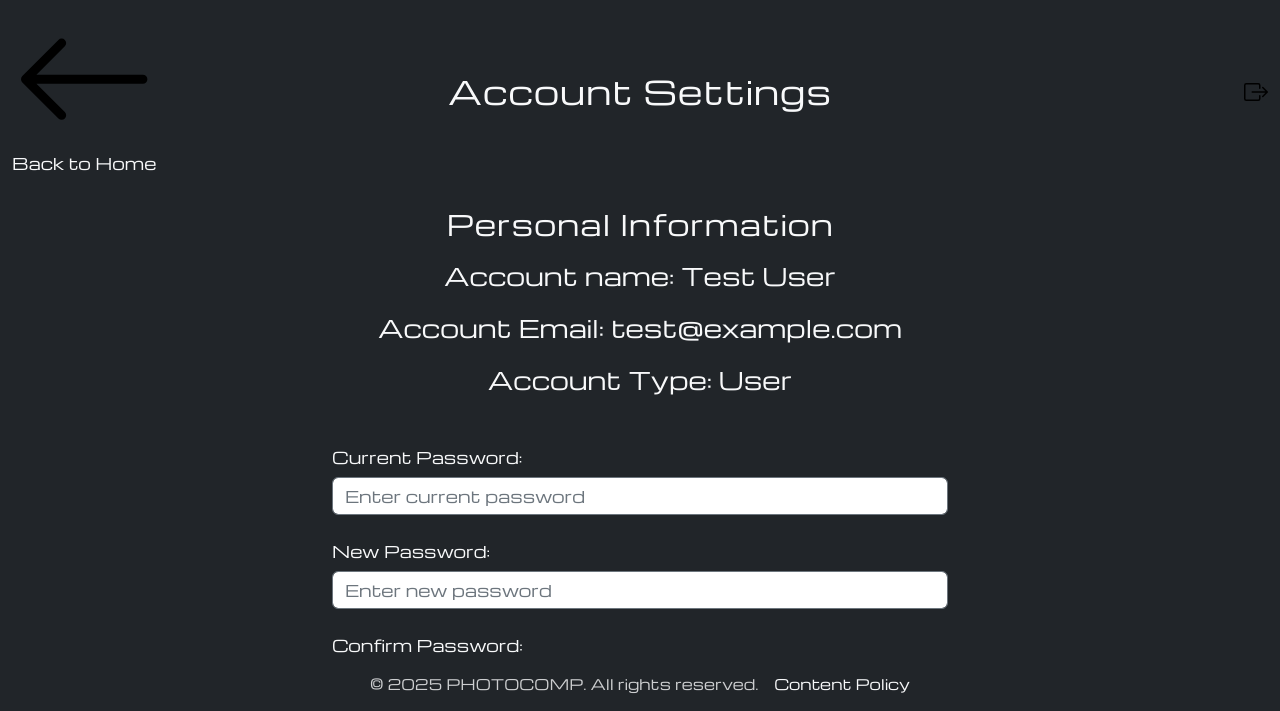
it: Account Settings Page › Password Change › handles incorrect current password
Type "wrongpassword" into the password field with id "currentPassword" at (640, 496), box [332,477,948,515]
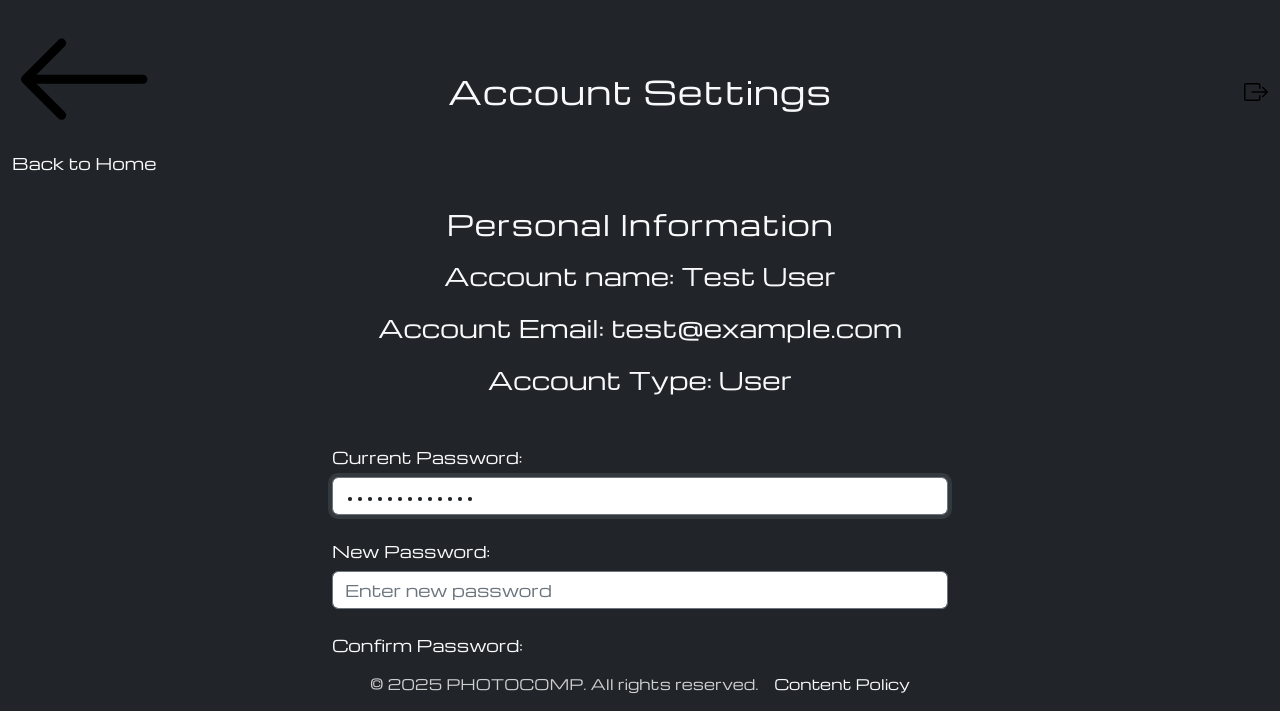
Type "newpassword123" into the password field with id "newPassword" at (640, 590), box [332,571,948,609]
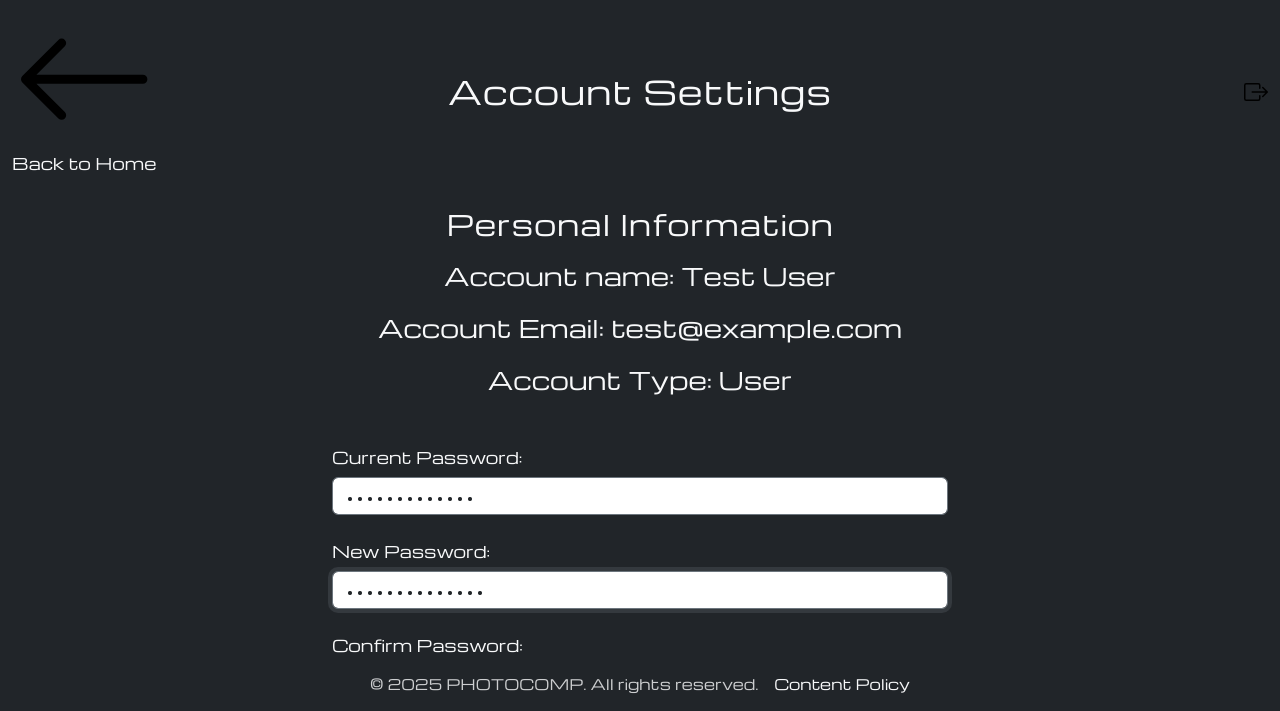
Scroll
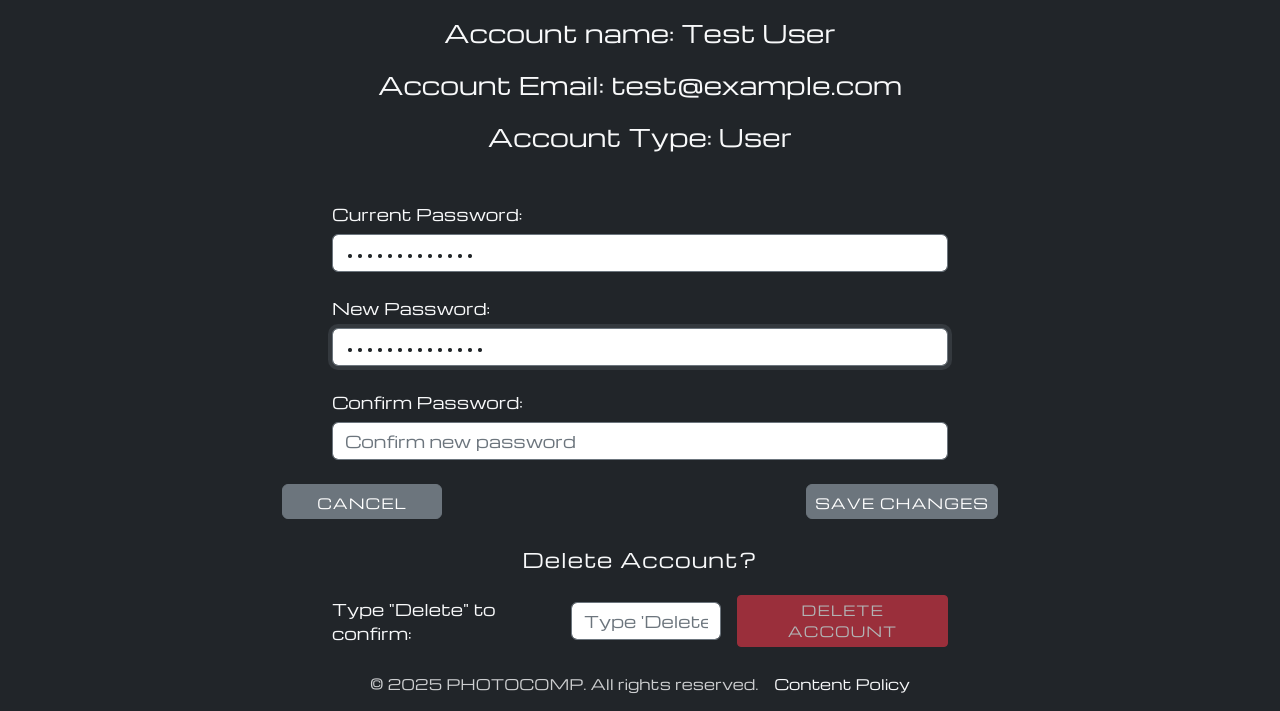
Type "newpassword123" into the password field with id "confirmPassword" at (640, 441), box [332,422,948,460]
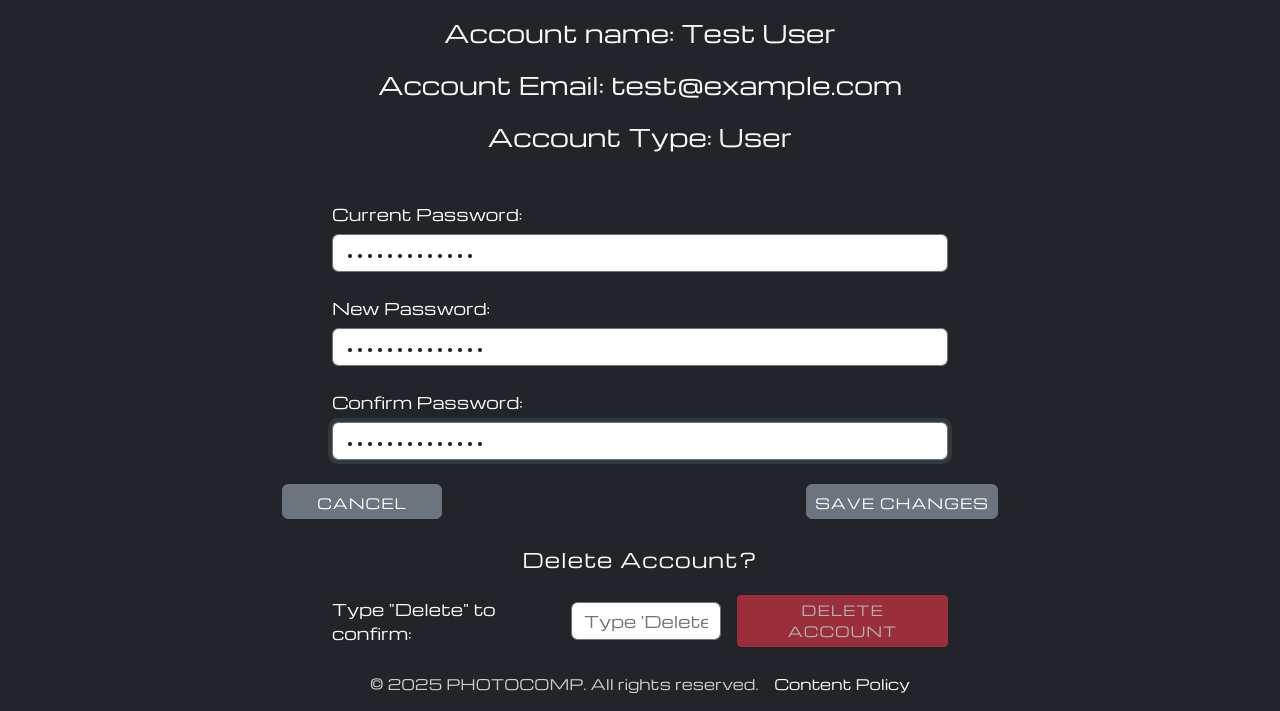
Click the button "Save Changes" at (902, 502), box [806,484,998,519]
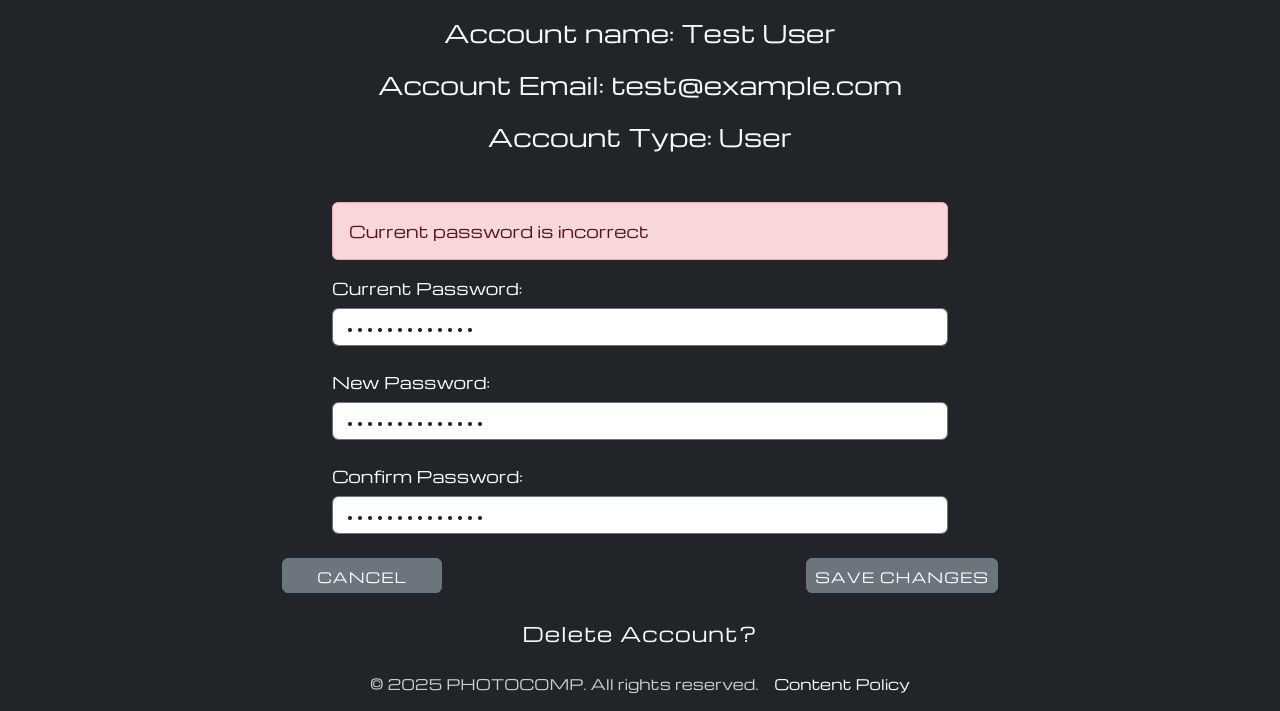
Now the text "Current password is incorrect" is shown, box [332,202,948,260]
